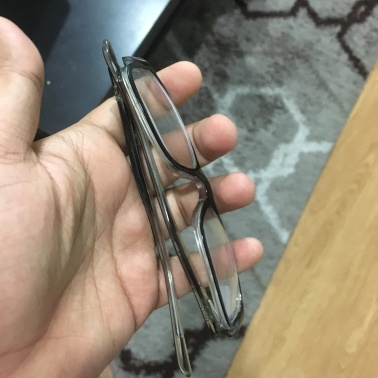glasses: (94, 43, 278, 353)
